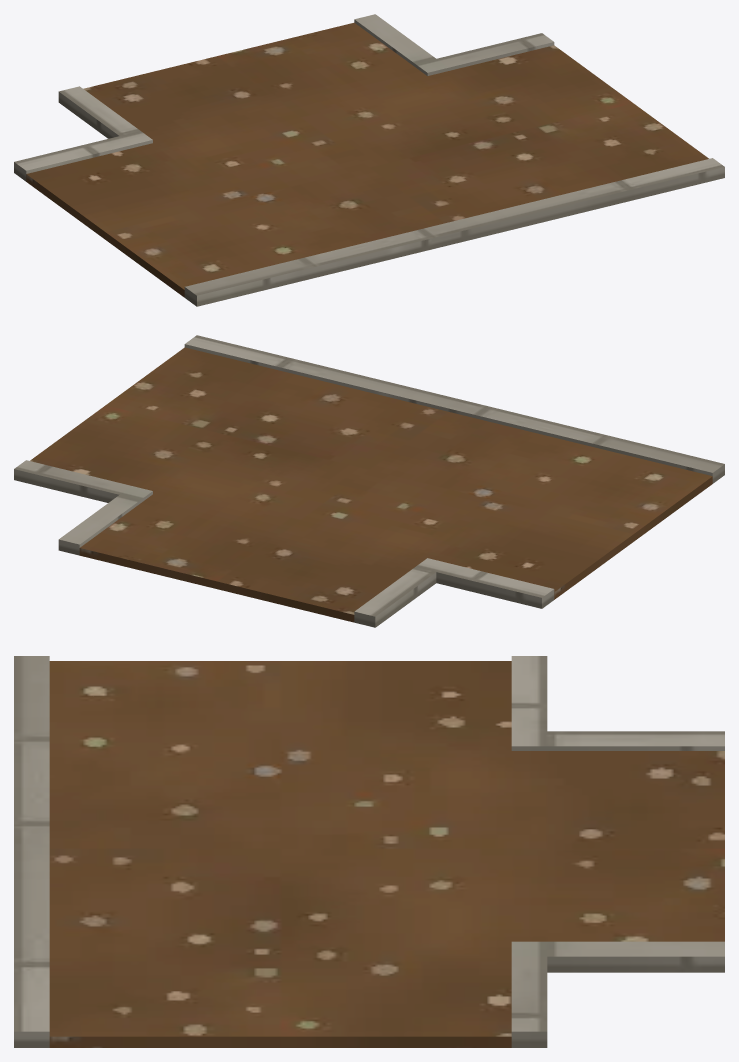
Rendered from tile.junction.glb.
The picture shows the model from 3 angles, top to bottom: view 1: azimuth 30°, elevation 25°; view 2: azimuth 150°, elevation 25°; view 3: azimuth 270°, elevation 25°; orthographic projection. The views are drawn at different scales.
Visible parts, largest first — view 1: path.tile.junction; view 2: path.tile.junction; view 3: path.tile.junction.
Part boxes in pixels (bbox=[...]): path.tile.junction: bbox=[14, 14, 724, 306]; path.tile.junction: bbox=[14, 335, 724, 627]; path.tile.junction: bbox=[14, 656, 724, 1047].
Size of the model in its own units: 1 by 0.02 by 0.8.
2 materials, 2 textured.
